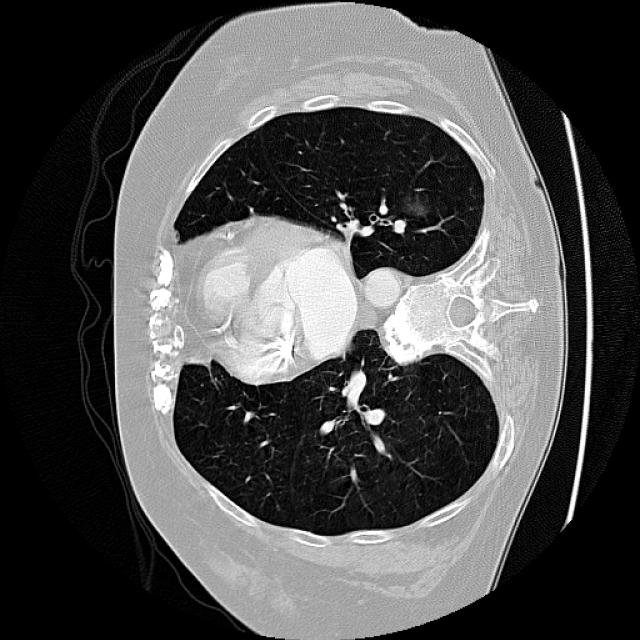nodule: (389, 181, 439, 231)
